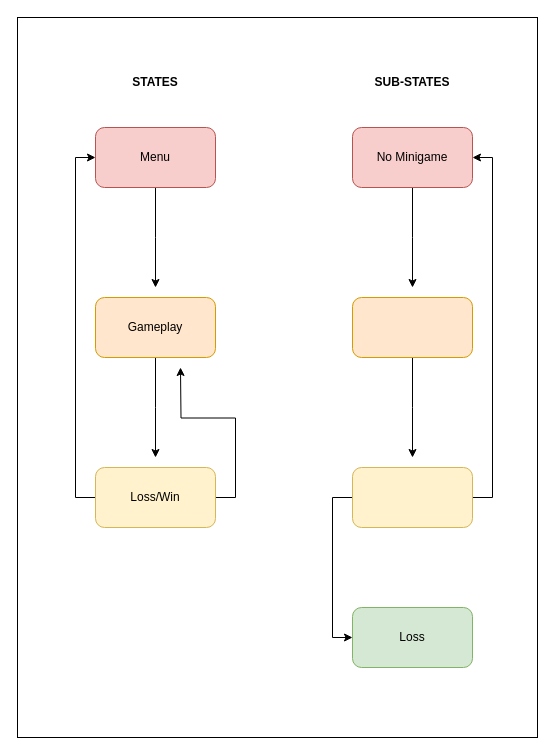
This 555x755 diagram has some shape labels left out. The centre of each missing label's shape, as x and y in pixels:
End Minigame: the point at 412,497
Playing Minigame: the point at 412,327
